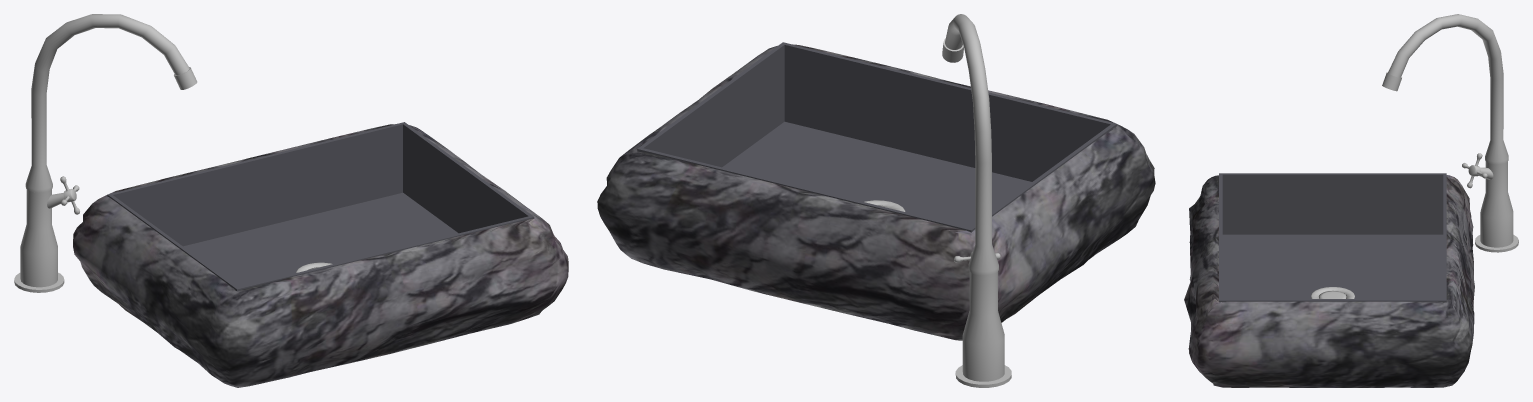
The model's file is stone-washbasin.glb.
The picture shows the model from 3 angles, left to right: view 1: azimuth 30°, elevation 25°; view 2: azimuth 150°, elevation 25°; view 3: azimuth 270°, elevation 25°; orthographic projection. The views are drawn at different scales.
Bounding box in the file's own units: 53.73 × 36.82 × 45.51.
Materials: 5 (1 with a texture image).
